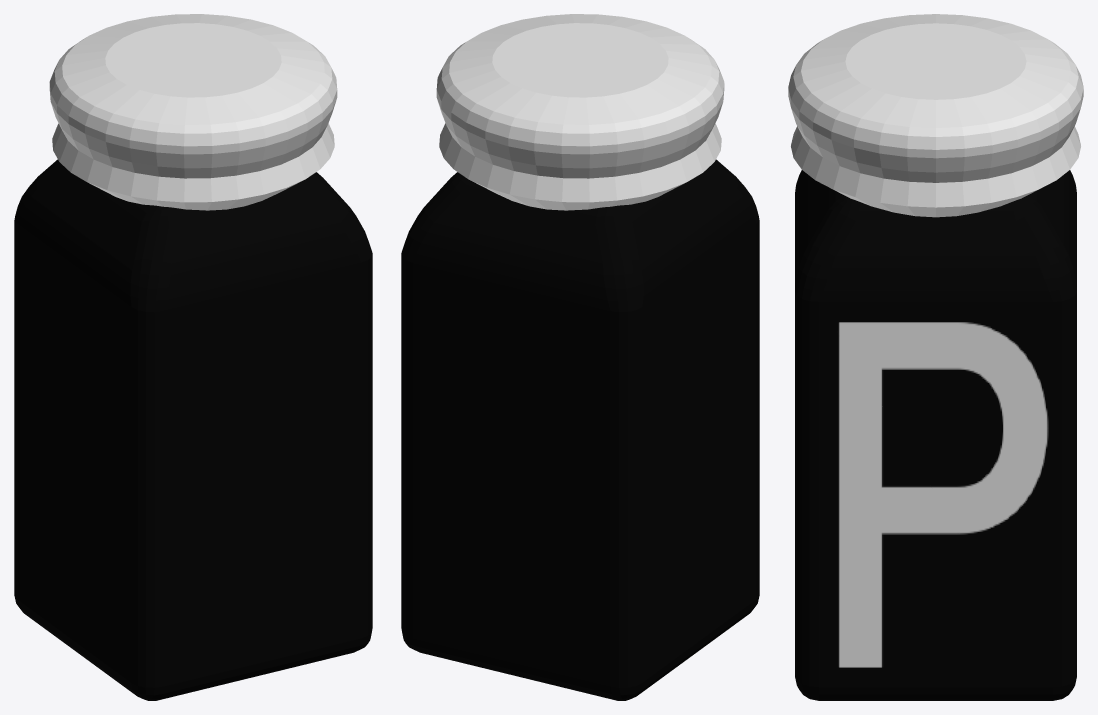
Rendered from Pepper Shaker.fbx.
3 views of the same model, side by side, from view 1: azimuth 30°, elevation 25°; view 2: azimuth 150°, elevation 25°; view 3: azimuth 270°, elevation 25° (orthographic). The views are drawn at different scales.
Parts seen in each view (by area): view 1: Cube; view 2: Cube; view 3: Cube.
Part boxes in pixels (bbox=[...]): Cube: bbox=[14, 14, 372, 700]; Cube: bbox=[401, 14, 759, 700]; Cube: bbox=[788, 14, 1083, 700].
Size of the model in its own units: 10.48 by 23 by 10.48.
